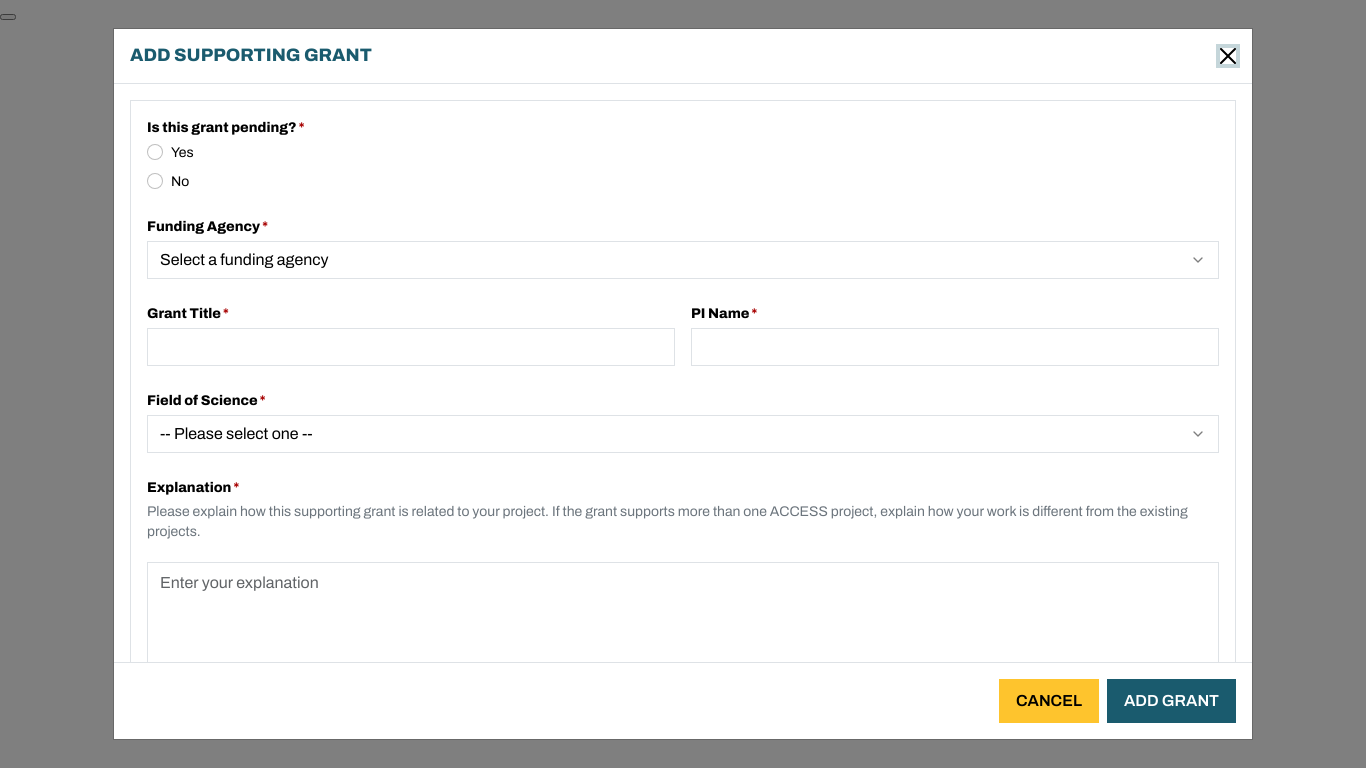
Test: AddGrantModal › locks every field but Field of Science and Explanation once NSF confirms the grant number entered here
This screenshot has width=1366, height=768.
Click the radio button named "No" next to "No": (155, 181) x1=147 y1=173 x2=163 y2=189
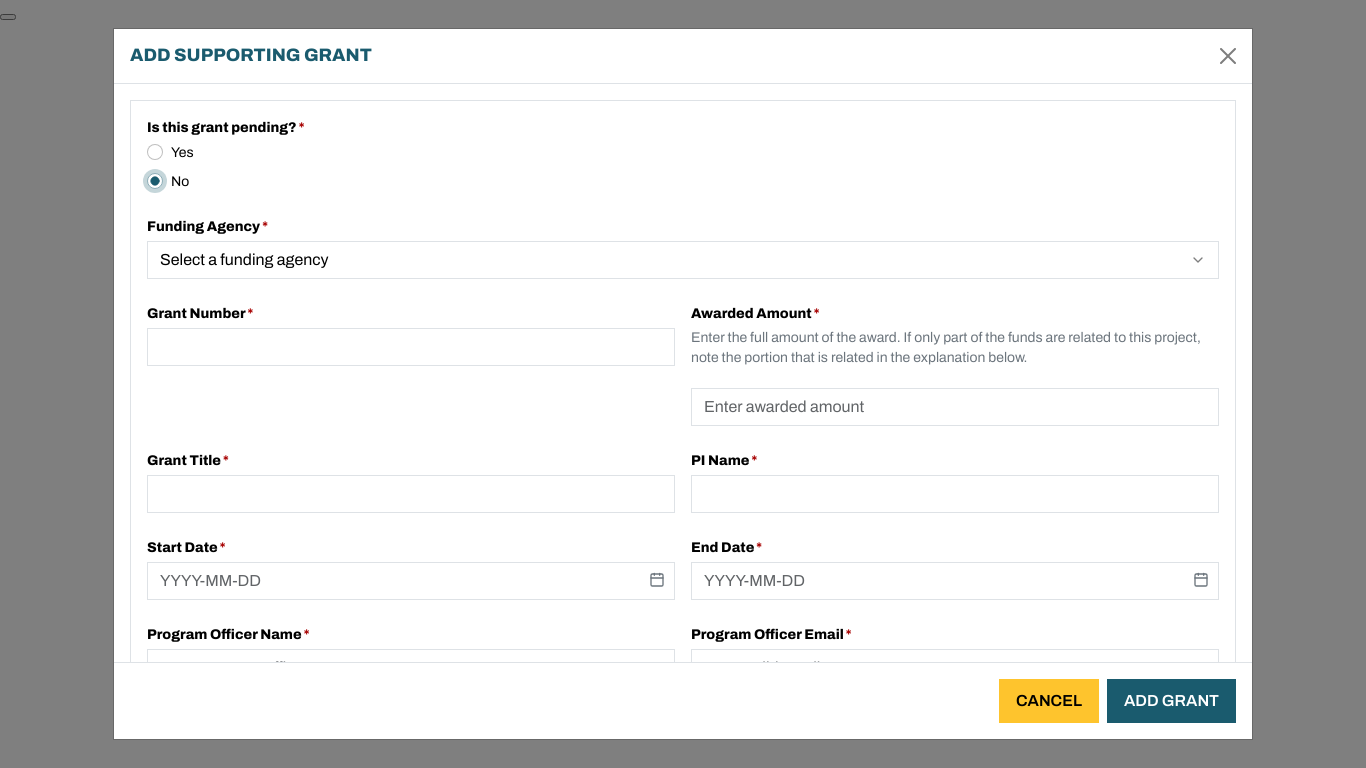
In the field labelled "Grant Number": (411, 347) x1=147 y1=328 x2=675 y2=366, type "1234567"
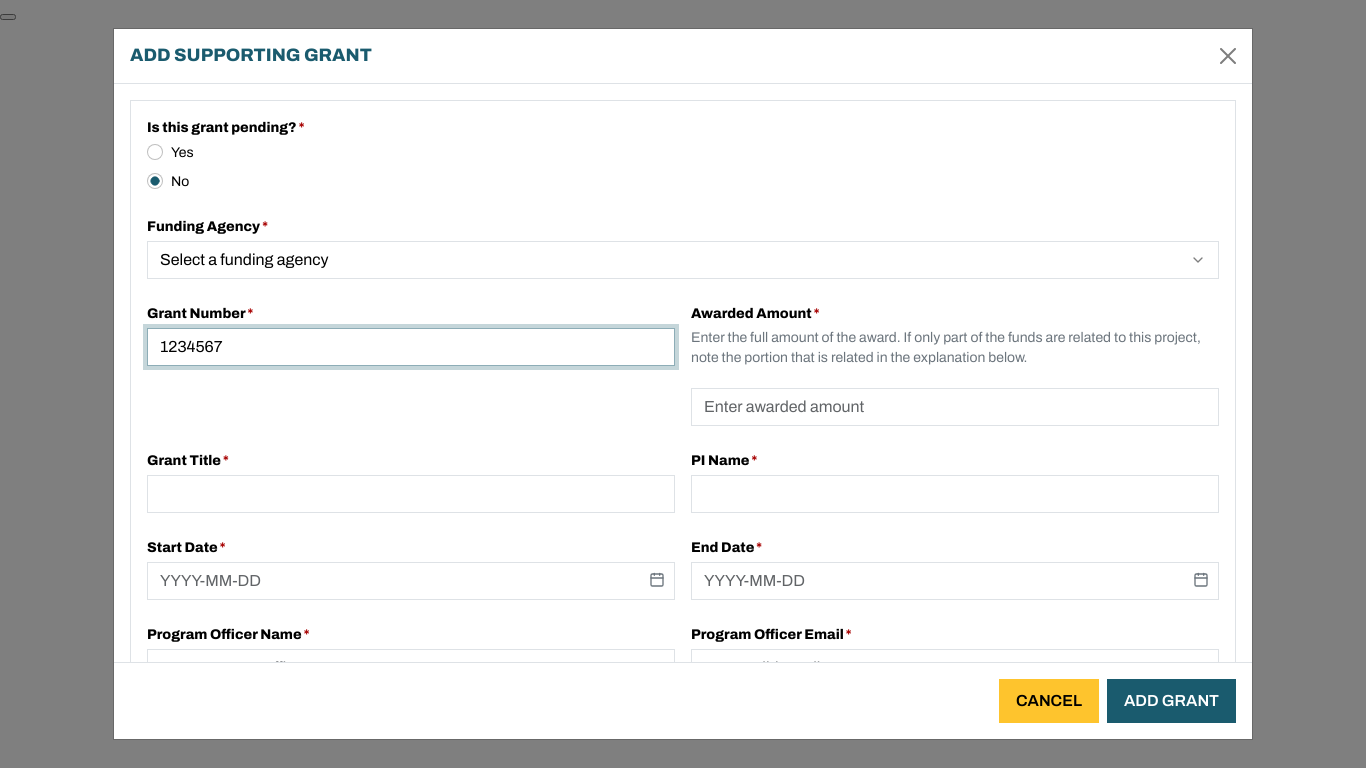
Click the dropdown labelled "Select a funding agency": (244, 259) x1=147 y1=241 x2=1219 y2=279
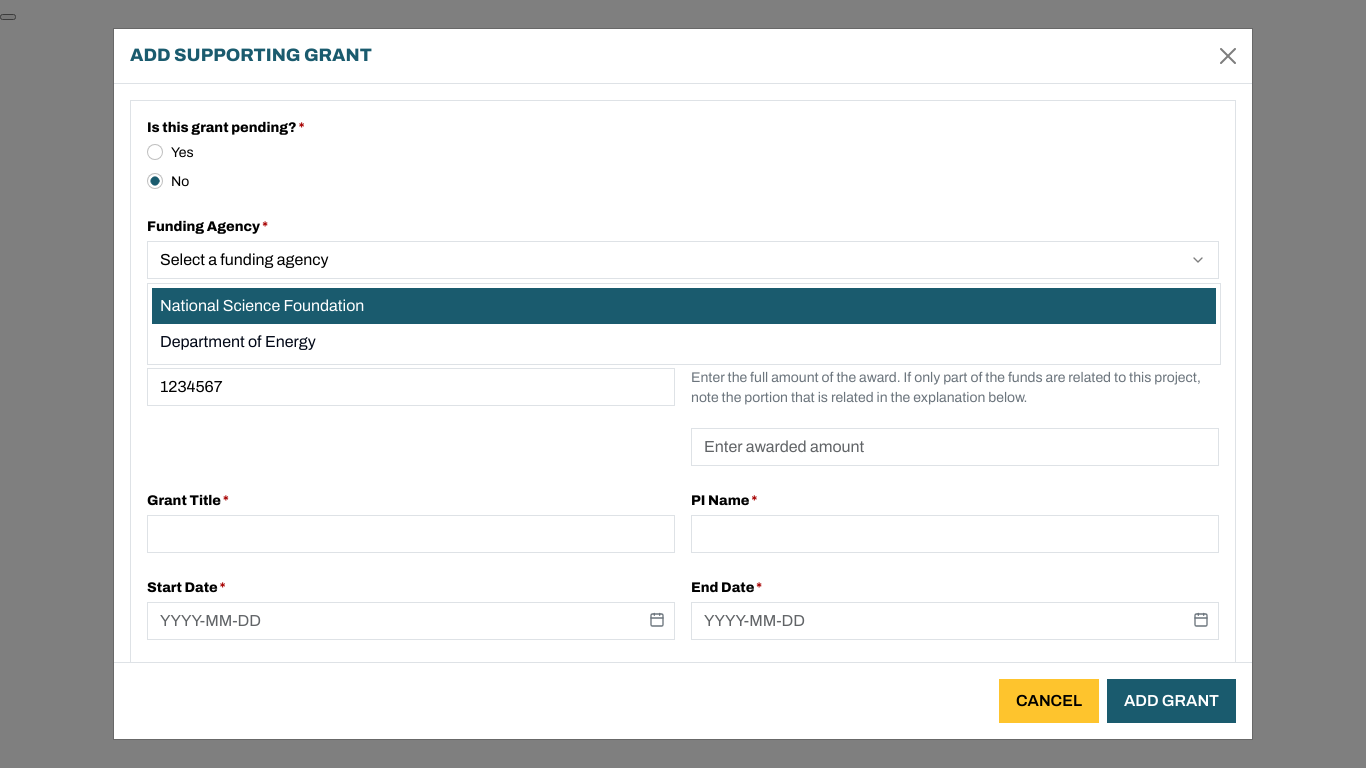
Click the option "National Science Foundation": (262, 306) x1=152 y1=288 x2=1216 y2=324
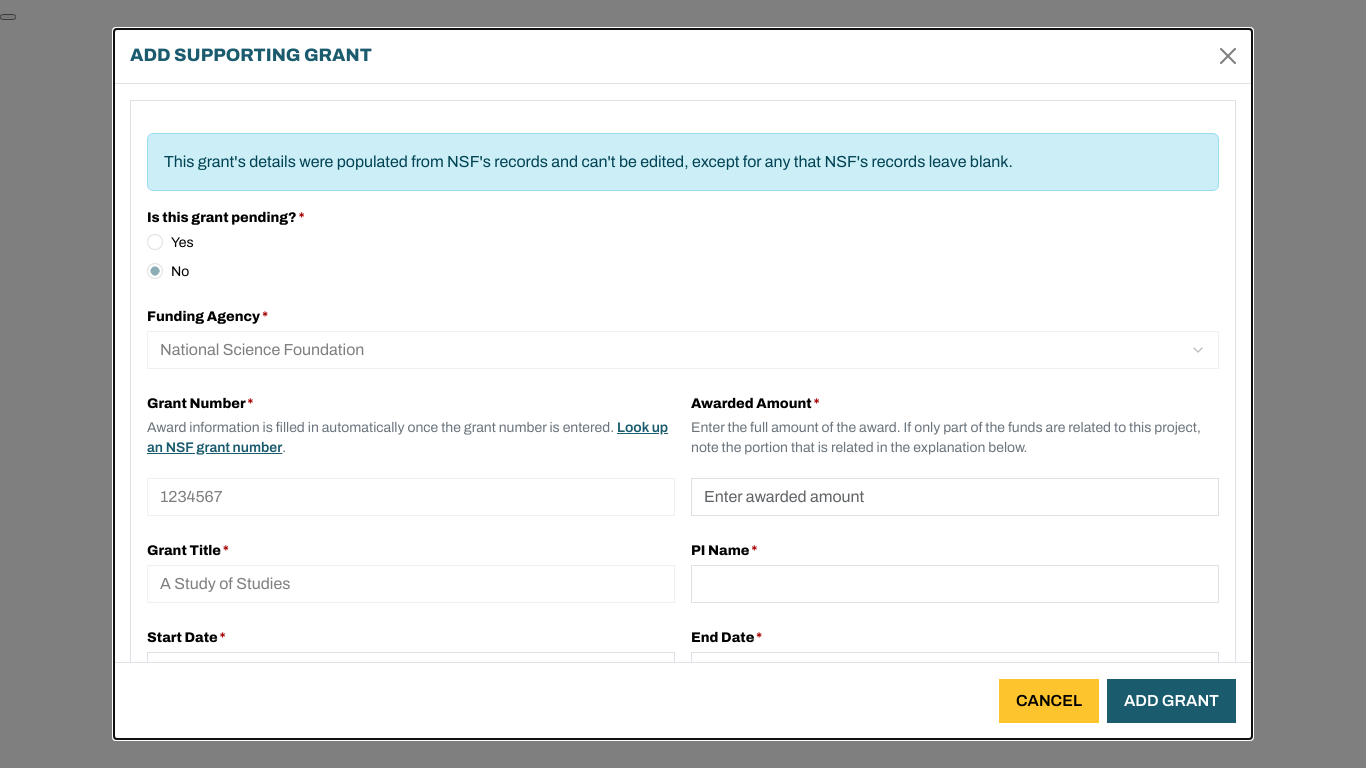
Check: the text "populated from NSF's records" is shown, box x1=164 y1=153 x2=684 y2=170
Check: the field labelled "Grant Title" is disabled, box x1=147 y1=565 x2=675 y2=603
